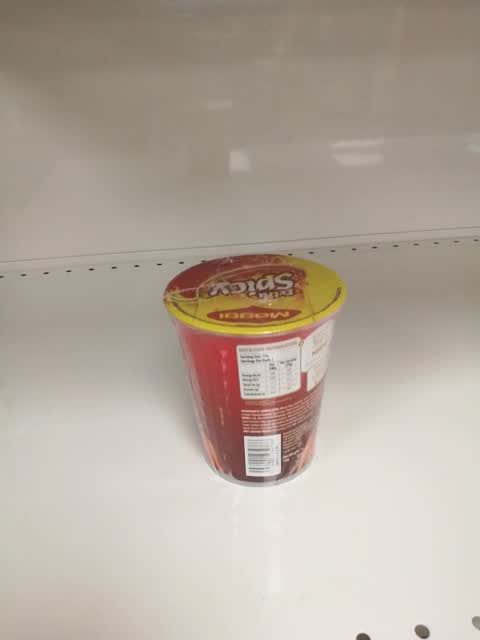maggi: (162, 254, 349, 489)
